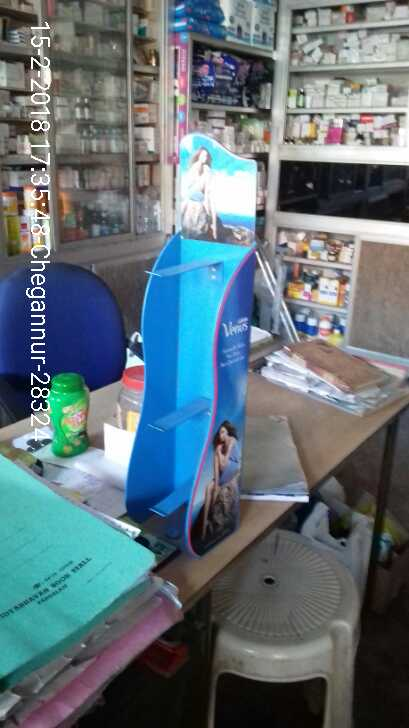reject: (151, 255, 286, 420)
